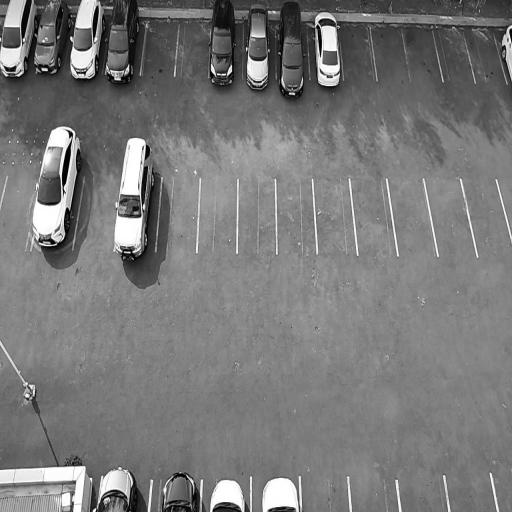Car: (29, 121, 86, 249), (111, 134, 157, 259), (102, 0, 144, 89), (67, 0, 110, 85), (31, 0, 76, 76), (0, 0, 42, 79), (278, 0, 306, 98), (208, 0, 237, 89), (313, 9, 343, 90), (92, 464, 141, 512), (246, 0, 271, 92), (158, 468, 199, 512), (262, 476, 301, 512), (207, 478, 246, 512), (496, 22, 512, 91)
Space Available: (424, 178, 477, 256), (387, 177, 438, 255), (461, 178, 511, 254), (349, 179, 398, 255), (313, 177, 358, 255), (73, 176, 118, 250), (156, 177, 200, 251), (237, 178, 278, 254), (196, 178, 238, 252), (276, 178, 317, 253), (0, 174, 38, 247), (463, 31, 507, 82), (140, 19, 179, 76), (402, 27, 443, 81), (433, 31, 475, 82), (444, 473, 498, 512), (370, 26, 409, 80), (339, 26, 377, 80), (396, 475, 449, 512), (174, 24, 211, 77), (348, 476, 401, 512), (302, 475, 351, 511), (497, 177, 512, 242), (490, 470, 512, 512)
